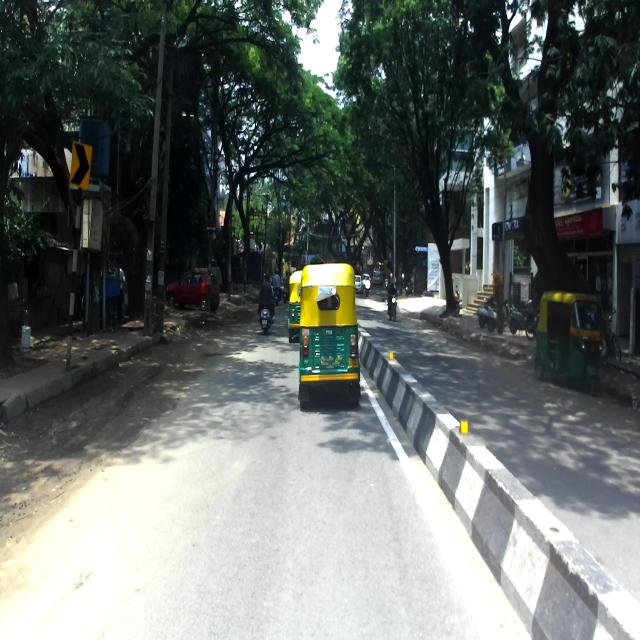auto ahead at: (300, 258, 365, 412), (282, 258, 301, 339)
car ahead at: (165, 254, 224, 323)
electric pole ahead at: (143, 20, 166, 340)
sign board ahead at: (59, 131, 92, 342)
